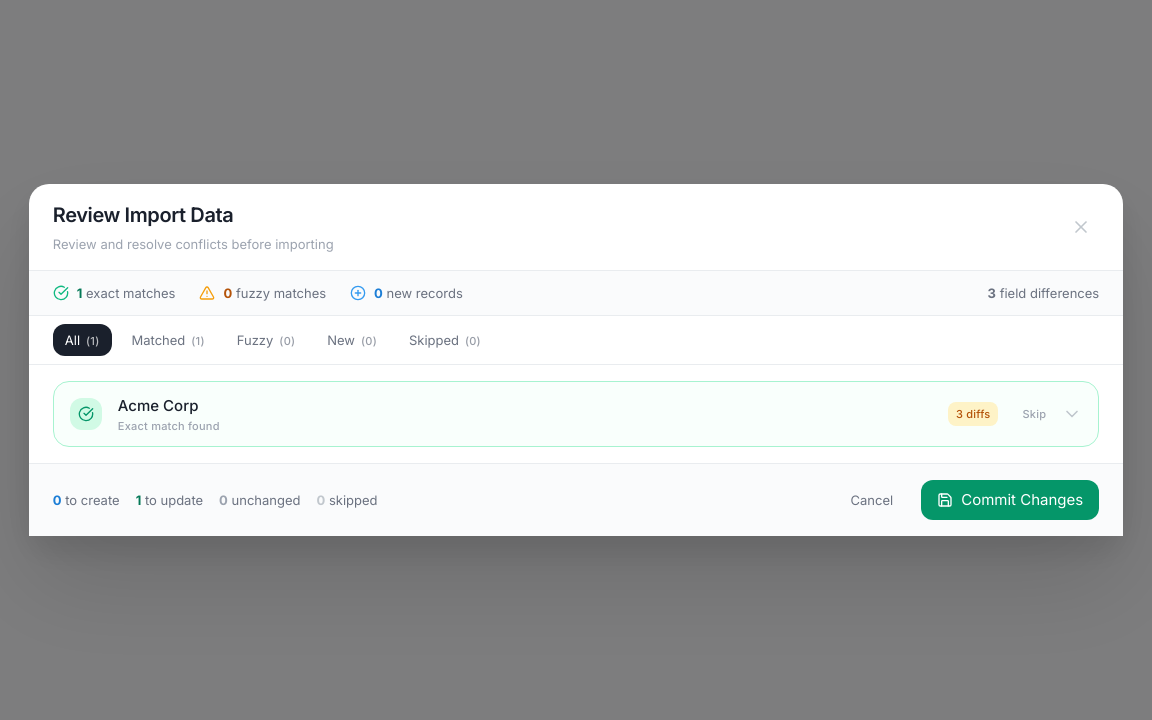
ExcelReviewModal - Field Diff Recalculation › Diff Recalculation on Match Change › 2. clears fieldDiffs when changing from matched company to "new"
Expected: the text "3 diffs" is shown, x1=948 y1=402 x2=998 y2=426
Expected: the text "Acme Corp" is shown, x1=118 y1=396 x2=198 y2=415
Click the text "Acme Corp": (86, 414) x1=70 y1=396 x2=1082 y2=433
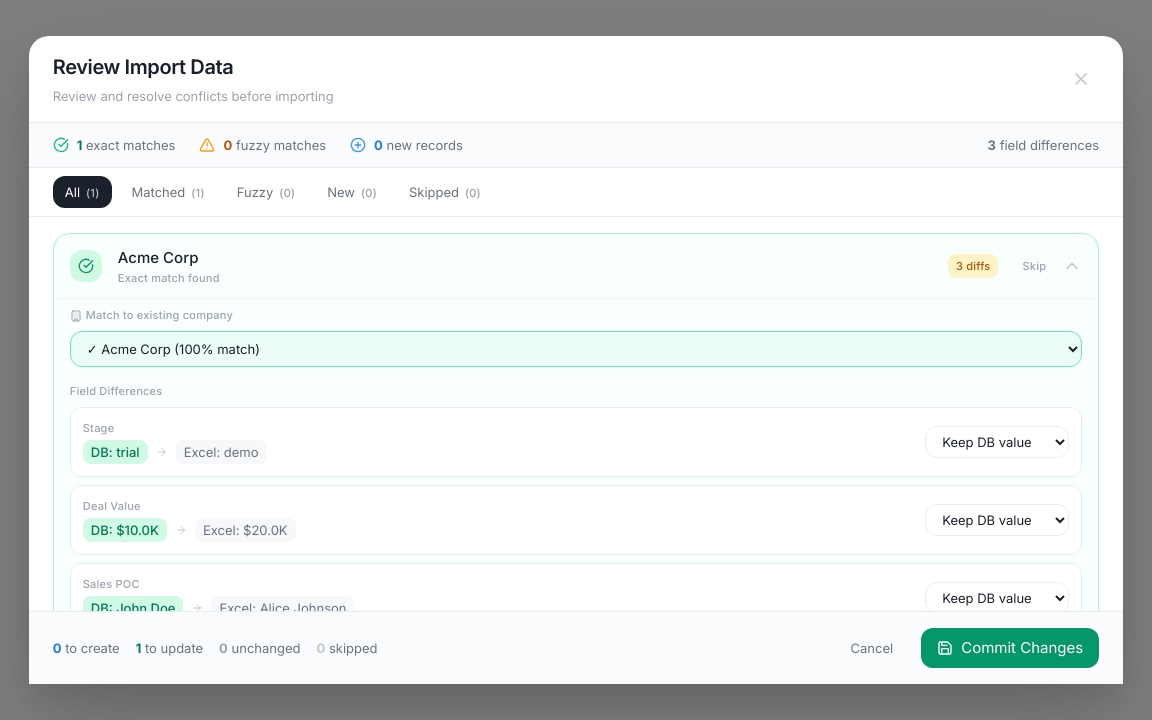
Expected: the dropdown below "Match to existing company" is shown
Select "➕ Create new company: Acme Corp" in the dropdown below "Match to existing company": (576, 349) x1=70 y1=331 x2=1082 y2=367
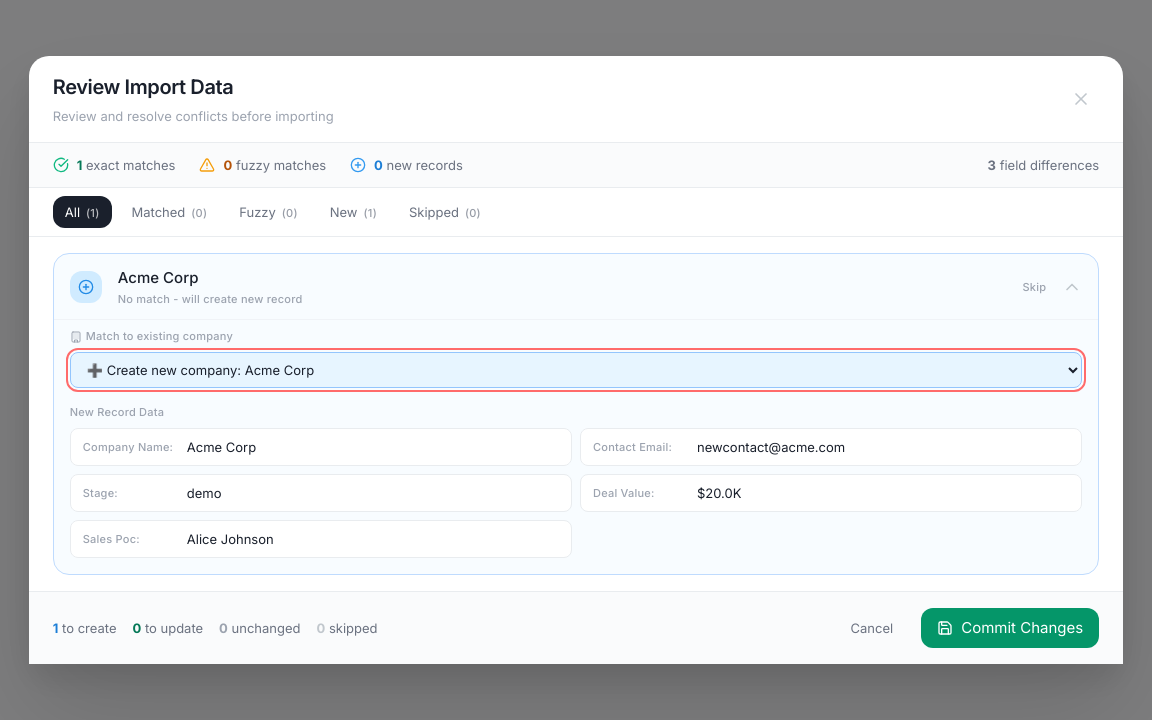
Expected: the text "3 diffs" is gone
Expected: the text "No match - will create new record" is shown, x1=118 y1=292 x2=302 y2=306
